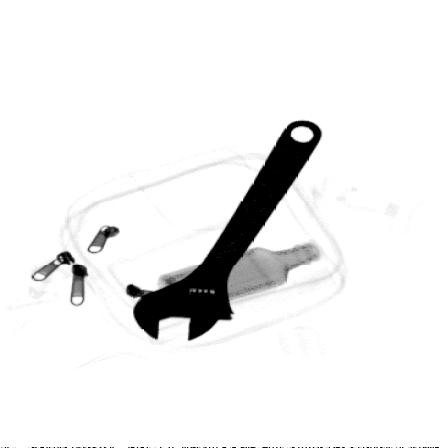Wrench: (131, 118, 325, 345)
